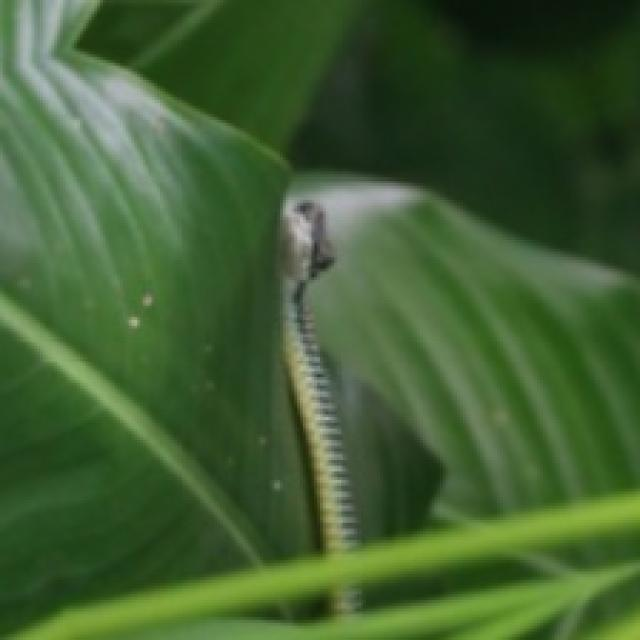paradise tree snake: (283, 200, 357, 549)
